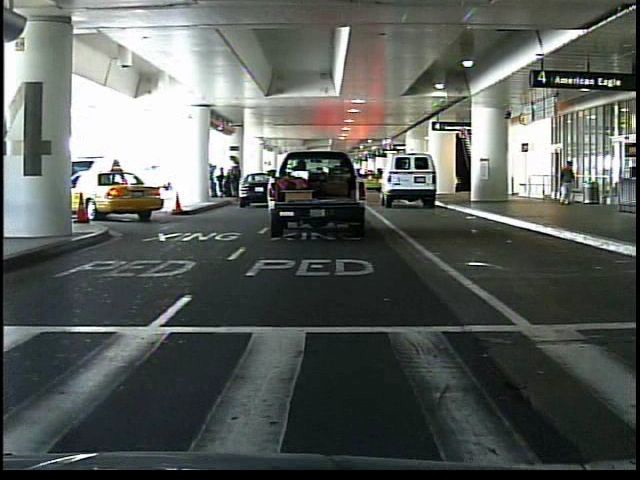person: (557, 159, 577, 211)
